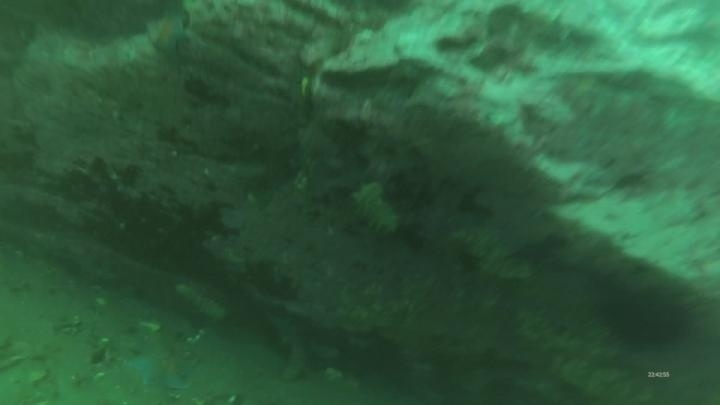echinus: (589, 291, 687, 362)
holothurian: (348, 178, 402, 238), (172, 277, 230, 323)
starfish: (122, 338, 197, 394), (144, 9, 192, 58)
